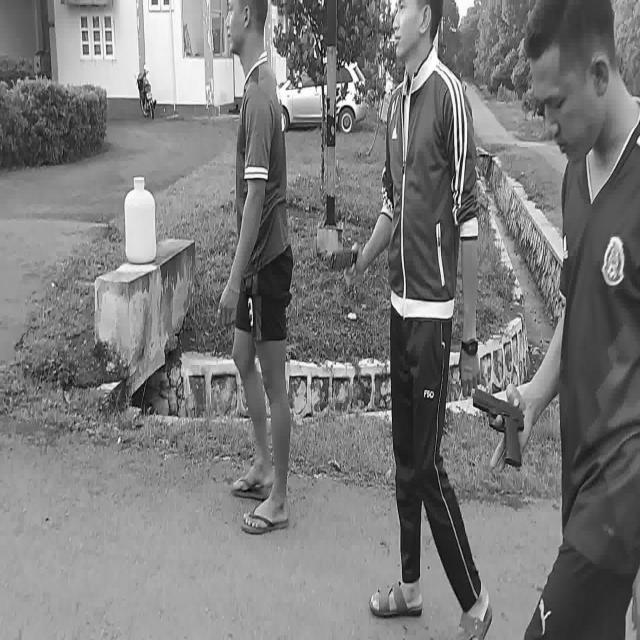gun: (472, 390, 524, 466)
